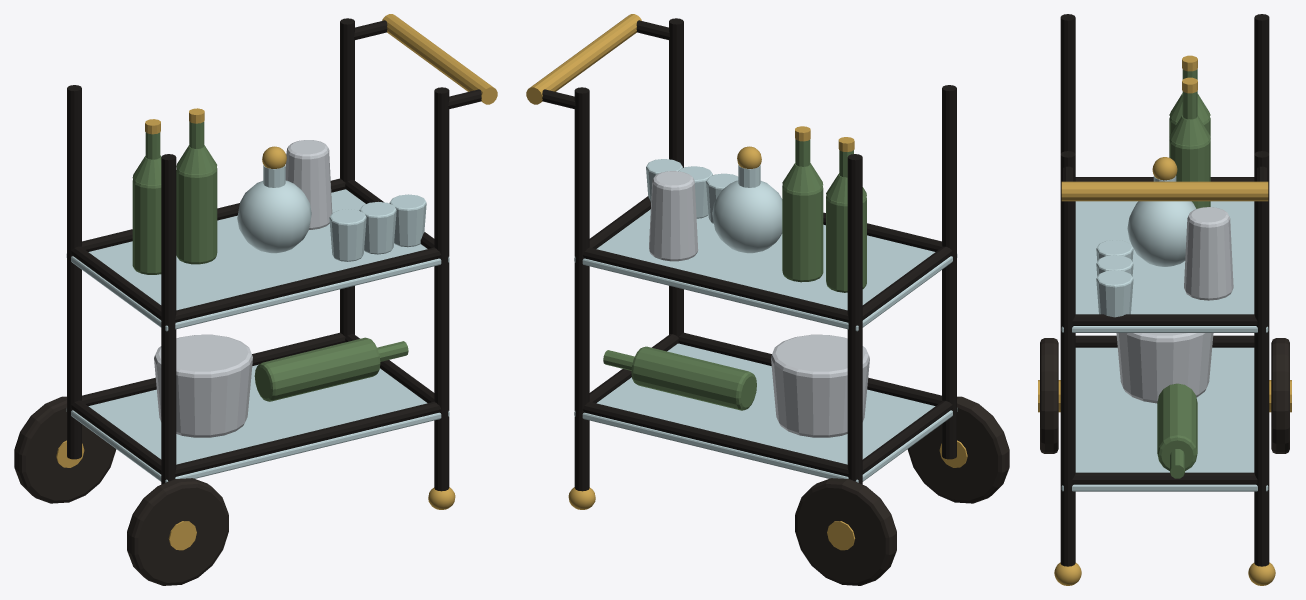
The model's file is hh_cat_drinks_trolley.glb.
3 views of the same model, side by side, from view 1: azimuth 30°, elevation 25°; view 2: azimuth 150°, elevation 25°; view 3: azimuth 270°, elevation 25° (orthographic). The views are drawn at different scales.
Parts seen in each view (by area): view 1: deck_glass, deck_glass.001, wheel, ice_bucket, wheel.001, post.002, post.001, post, bottle.002, decanter, bottle.001, deck_rail.004 (+16 smaller); view 2: deck_glass, deck_glass.001, wheel.001, ice_bucket, wheel, post.003, post, post.001, bottle.002, decanter, shaker, bottle.001 (+15 smaller); view 3: deck_glass, deck_glass.001, post.002, post.003, ice_bucket, handle_grip, shaker, decanter, bottle.002, deck_rail.003, post, post.001 (+16 smaller).
Part boxes in pixels (x1,y1,x2,y2): deck_glass: (66,364,449,482); deck_glass.001: (66,189,449,331); wheel: (127,478,228,585); ice_bucket: (154,334,252,437); wheel.001: (14,396,116,503); post.002: (434,87,449,491); post.001: (67,85,81,459); post: (161,154,176,484); bottle.002: (254,337,380,401); decanter: (237,180,311,253); bottle.001: (176,167,217,264); deck_rail.004: (175,247,441,322); deck_glass: (574,343,957,482); deck_glass.001: (574,209,957,331); wheel.001: (795,478,896,585); ice_bucket: (771,334,869,437); wheel: (907,396,1009,503); post.003: (574,87,589,491); post: (942,85,956,459); post.001: (847,154,862,484); bottle.002: (631,346,756,410); decanter: (712,180,782,253); shaker: (649,171,698,261); bottle.001: (782,185,823,282); deck_glass: (1061,347,1268,491); deck_glass.001: (1061,201,1268,332); post.002: (1060,151,1075,566); post.003: (1254,151,1269,566); ice_bucket: (1116,333,1213,403); handle_grip: (1061,181,1268,201); shaker: (1184,207,1233,300); decanter: (1127,201,1196,266); bottle.002: (1157,383,1197,470); deck_rail.003: (1072,472,1257,484); post: (1060,14,1075,153); post.001: (1254,14,1269,153).
Bounding box in the file's own units: 0.7 × 0.75 × 0.4.
